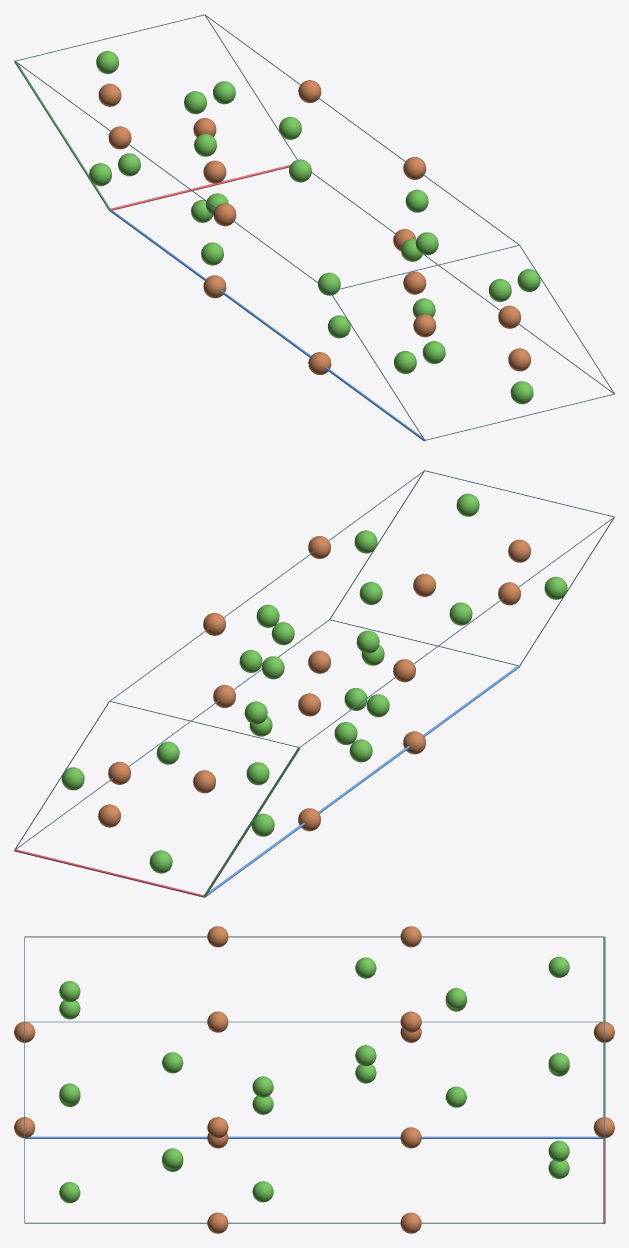
File: chat-molysite.glb
3 views of the same model, one above another, from view 1: azimuth 30°, elevation 25°; view 2: azimuth 150°, elevation 25°; view 3: azimuth 270°, elevation 25° (orthographic). The views are drawn at different scales.
Visible parts, largest first — view 1: Ô mạng và các trục a, b, c; view 2: Ô mạng và các trục a, b, c; view 3: Ô mạng và các trục a, b, c.
Boxes of the visible parts, <box> form: Ô mạng và các trục a, b, c: <box>14,14,614,441</box>; Ô mạng và các trục a, b, c: <box>14,470,614,897</box>; Ô mạng và các trục a, b, c: <box>24,936,605,1223</box>.
Bounding box in the file's own units: 9.74 × 5.89 × 18.06.
